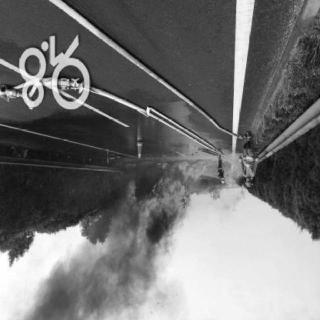Fire: (133, 164, 209, 256)
Smoke: (68, 255, 152, 317)
other: (233, 132, 256, 192)
